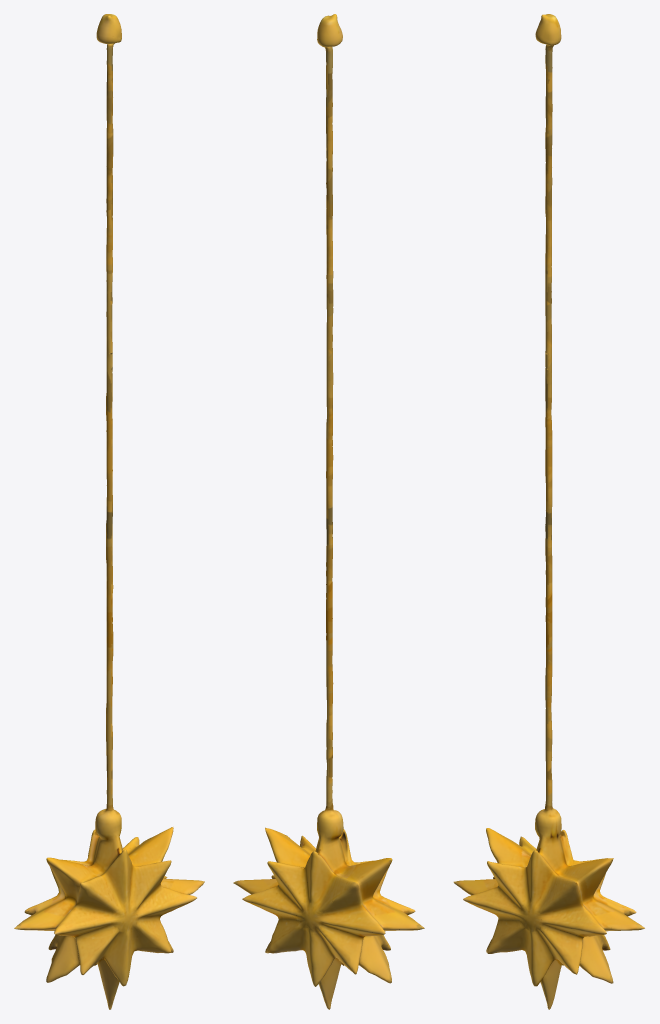
Rendered from Meshy_AI_Golden_Star_Ornament_0102103739_texture.fbx.
3 renders of one model, left to right at view 1: azimuth 30°, elevation 25°; view 2: azimuth 150°, elevation 25°; view 3: azimuth 330°, elevation 25°, orthographic.
Visible parts, largest first — view 1: Mesh0; view 2: Mesh0; view 3: Mesh0.
Part boxes in pixels (x1,y1,x2,y2): Mesh0: (14,14,204,1009); Mesh0: (233,14,424,1009); Mesh0: (453,14,644,1009).
Size of the model in its own units: 38.67 by 193 by 12.89.
Materials: 1 (1 with a texture image).
